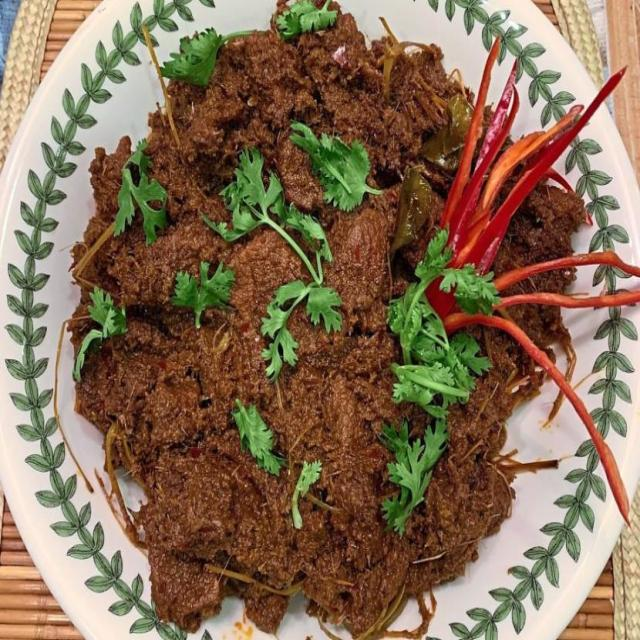Rendang: (54, 0, 618, 629)
